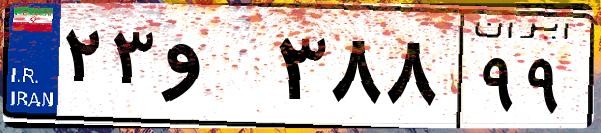2: (57, 26, 110, 100)
3: (270, 28, 330, 110), (110, 28, 158, 98)
8: (385, 28, 445, 110), (330, 28, 385, 110)
9: (475, 38, 525, 113), (525, 38, 570, 115)
و: (158, 20, 270, 120)
